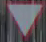Give way: (4, 0, 41, 41)
